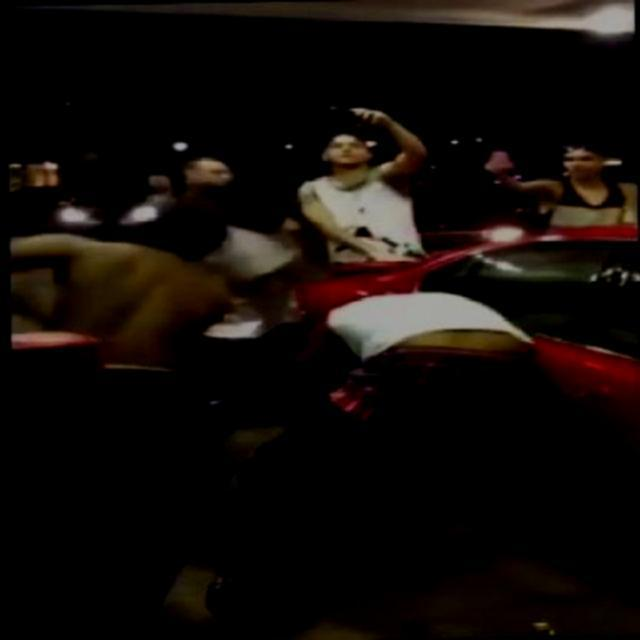fight: (202, 199, 536, 630)
